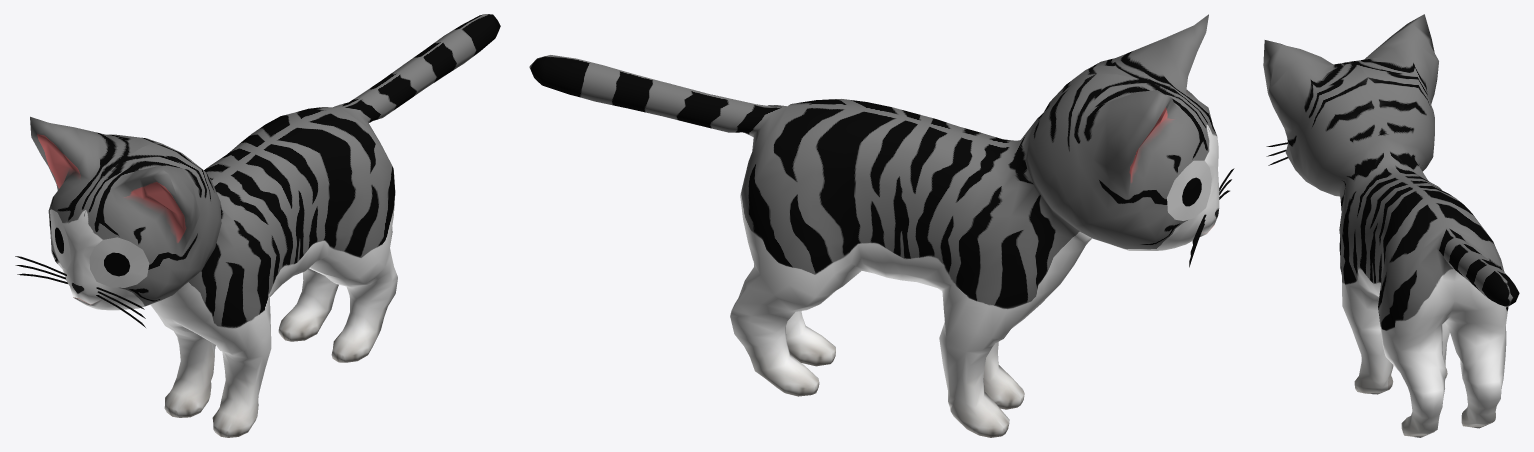
Rendered from Cat.glb.
The picture shows the model from 3 angles, left to right: view 1: azimuth 30°, elevation 25°; view 2: azimuth 150°, elevation 25°; view 3: azimuth 270°, elevation 25°; orthographic projection. The views are drawn at different scales.
Parts seen in each view (by area): view 1: Chii.001, Chii.004, Chii.003; view 2: Chii.001, Chii.004, Chii.003; view 3: Chii.001.
Boxes of the visible parts, x1,y1,x2,y2 form: Chii.001: [30, 14, 500, 437]; Chii.004: [50, 209, 149, 287]; Chii.003: [15, 227, 145, 327]; Chii.001: [529, 14, 1219, 437]; Chii.004: [1167, 160, 1211, 220]; Chii.003: [1182, 168, 1234, 267]; Chii.001: [1263, 14, 1519, 437].
Size of the model in its own units: 0.3384 by 0.2038 by 0.1559.
4 materials, 1 textured.
